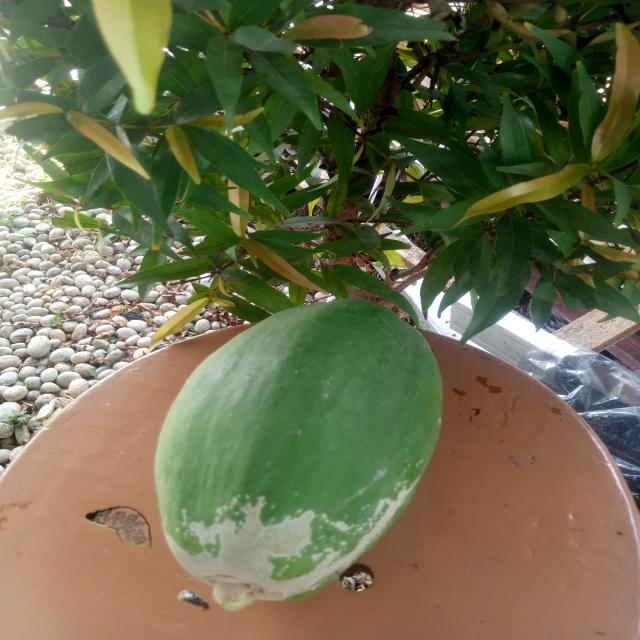Pepaya unrippen: (153, 295, 468, 609)
